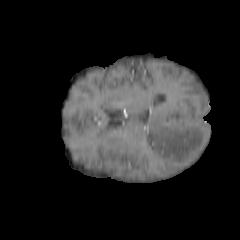glioma: (144, 101, 207, 163)
